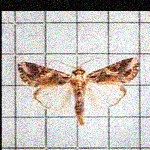Spodoptera litura: (17, 57, 139, 126)
